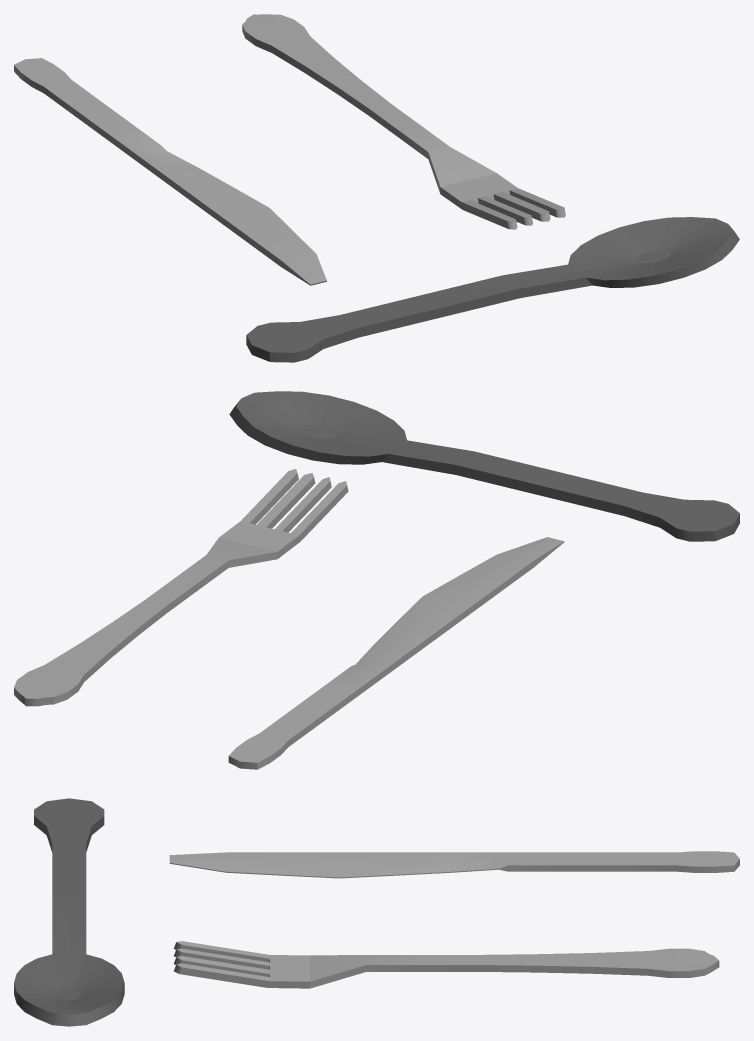
Rendered from CutlerySetupModel.fbx.
3 views of the same model, one above another, from view 1: azimuth 30°, elevation 25°; view 2: azimuth 150°, elevation 25°; view 3: azimuth 270°, elevation 25° (orthographic). The views are drawn at different scales.
Parts seen in each view (by area): view 1: CutlerySetupModel; view 2: CutlerySetupModel; view 3: CutlerySetupModel.
Part boxes in pixels (left/top/right/bottom): CutlerySetupModel: left=14, top=14, right=739, bottom=362; CutlerySetupModel: left=14, top=391, right=739, bottom=769; CutlerySetupModel: left=14, top=798, right=739, bottom=1026.
Bounding box in the file's own units: 57.74 × 2.72 × 79.
